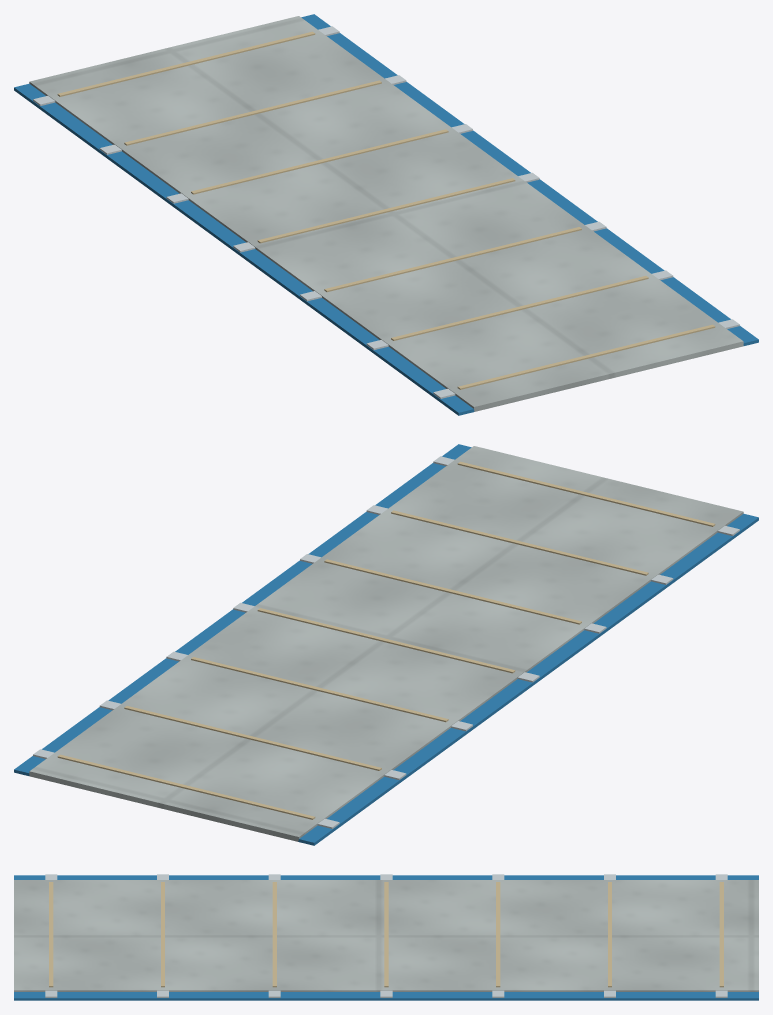
File: AQUA-003.glb
3 renders of one model, top to bottom at view 1: azimuth 30°, elevation 25°; view 2: azimuth 150°, elevation 25°; view 3: azimuth 270°, elevation 25°, orthographic. The views are drawn at different scales.
Visible parts, largest first — view 1: AQUA-003; view 2: AQUA-003; view 3: AQUA-003.
Part boxes in pixels (left/top/right/bottom): AQUA-003: left=14, top=14, right=758, bottom=415; AQUA-003: left=14, top=444, right=758, bottom=845; AQUA-003: left=14, top=874, right=758, bottom=1000.
Size of the model in its own units: 3.12 by 0.0635 by 8.
Materials: 4 (1 with a texture image).
